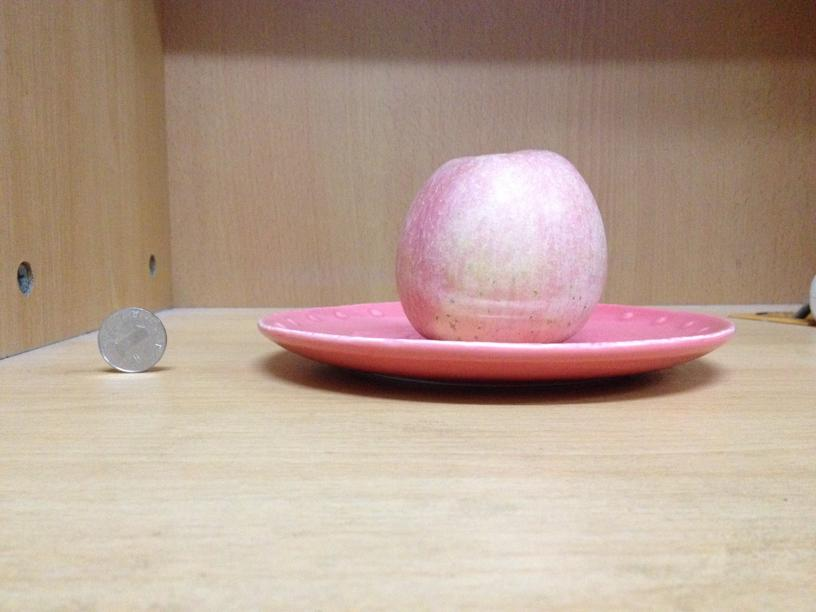apple: (392, 148, 606, 340)
coin: (98, 308, 167, 373)
